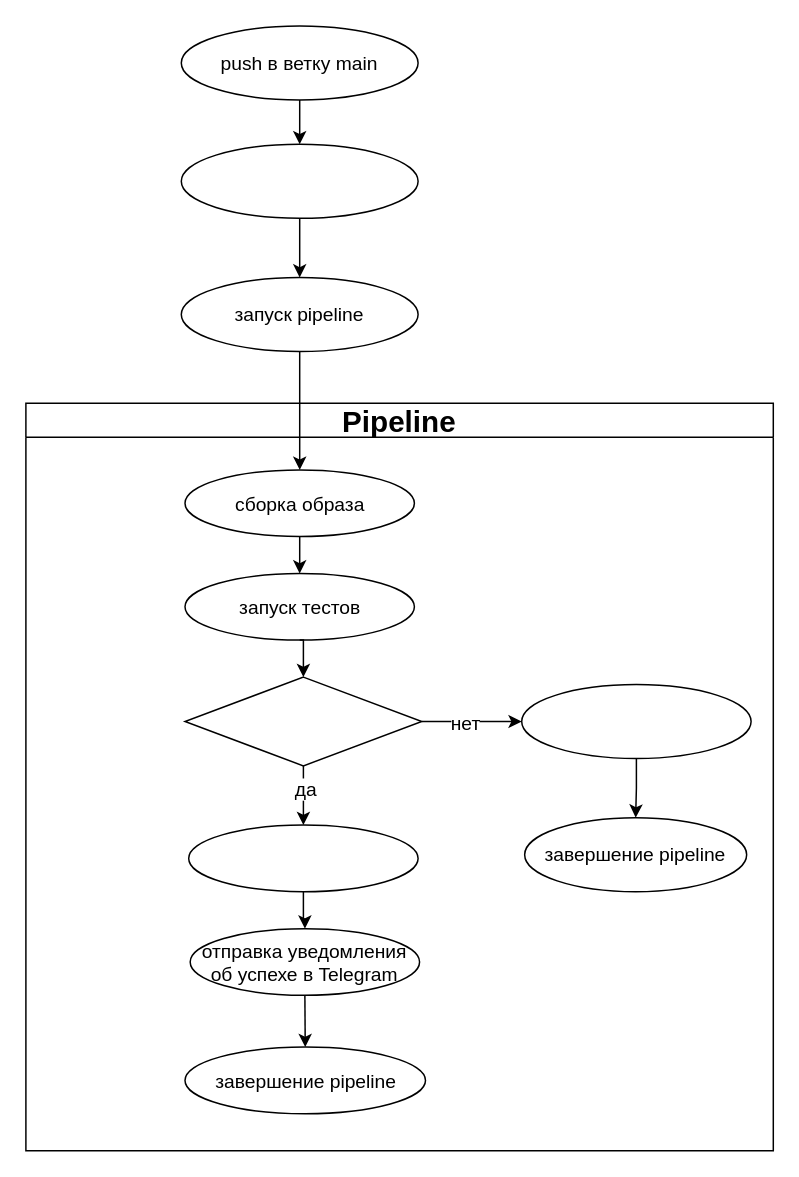
The diagram is 799 pixels wide and 1177 high, and some of its shapes have lost their labels. The centre of each missing label's shape, as x and y in pixels:
отправка уведомления об ошибке в Telegram: [635,720]
пуш образа в Docker Hub: [302,858]
тесты пройдены?: [303,721]
уведомление об событии push в ветку: [299,180]
